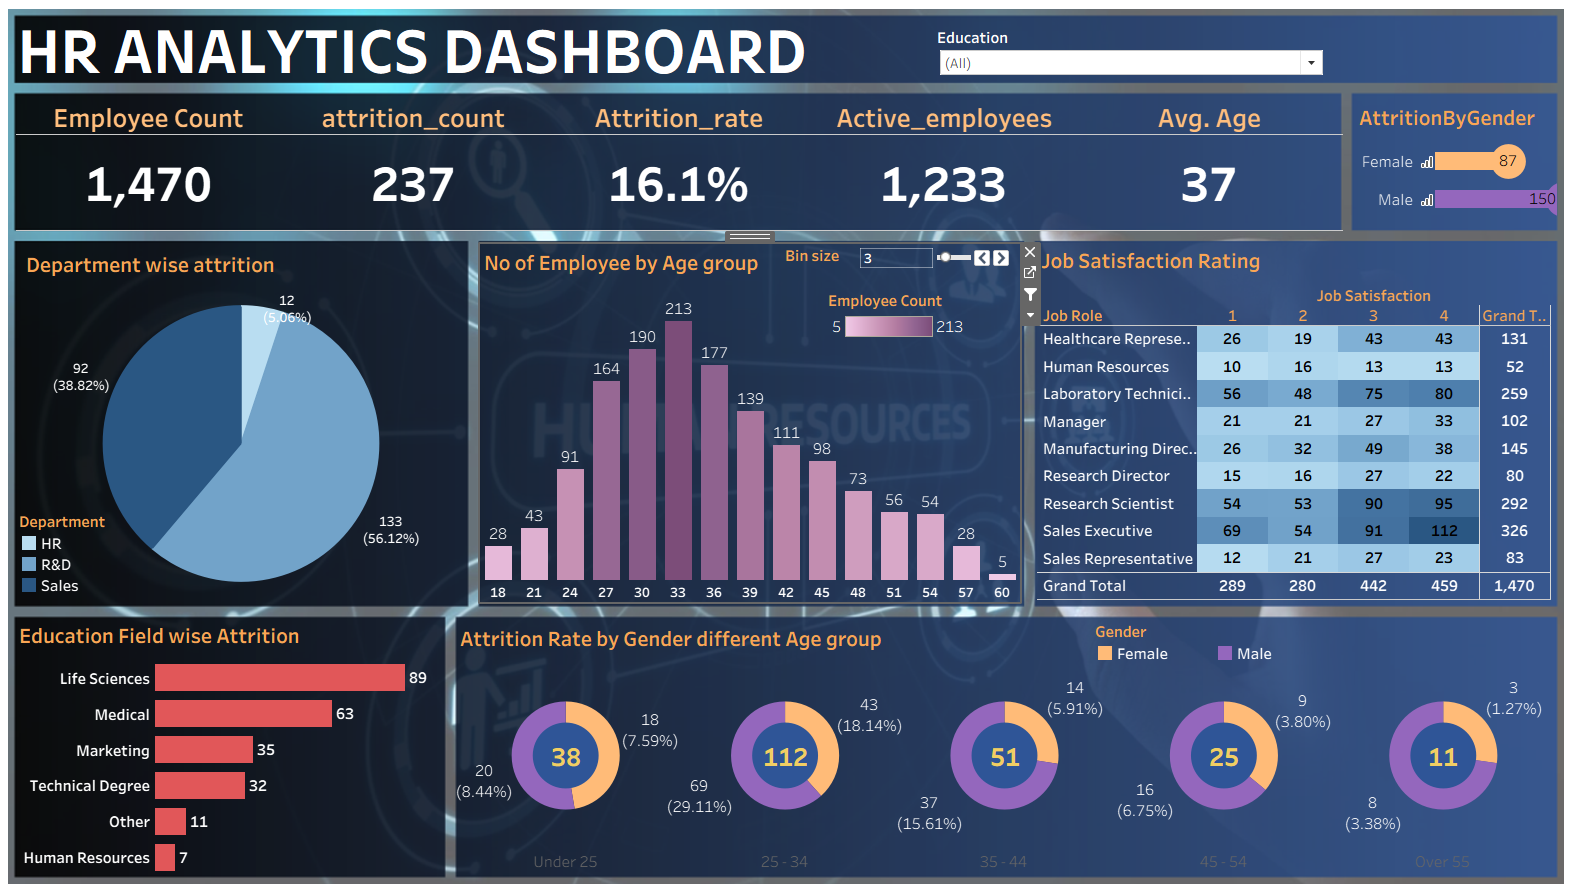

The page's visual inventory and layout, read from the dashboard file:
{"tool":"tableau","page":{"name":"HR ANALYTICS DASHBOARD","canvas":[1580,900],"ordinal":0},"visuals":[{"type":"image","param":"Image/HR background.pptx.png","box":[8,8,1564,884]},{"type":"text","box":[18,21,830,60]},{"type":"filter","title":"KPI","param":"[federated.0dyx7000e9c6fp18b4di31rew2zo].[none:Education:nk]","box":[941,30,389,50]},{"type":"worksheet","title":"KPI","mark":"Text","box":[20,97,1327,137]},{"type":"worksheet","title":"AttritionByGender","mark":"Automatic","rows":["Gender"],"cols":["Calculation_1550643996291072","Calculation_1550643996291072"],"box":[1359,102,202,119]},{"type":"worksheet","title":"Job Satisfaction Rating","mark":"Square","rows":["Job Role"],"cols":["Job Satisfaction"],"box":[1041,245,514,358]},{"type":"worksheet","title":"No of Employee by Age group","mark":"Automatic","rows":["Employee Count"],"cols":["Age (bin)"],"box":[484,247,540,358]},{"type":"parameter","param":"[Parameters].[Parameter 0351078969819136]","box":[789,248,227,33]},{"type":"worksheet","title":"Department wise attrition","mark":"Pie","box":[26,249,438,352]},{"type":"legend","title":"No of Employee by Age group","param":"[federated.0dyx7000e9c6fp18b4di31rew2zo].[sum:Employee Count:qk]","box":[832,293,140,51]},{"type":"legend","title":"Department wise attrition","param":"[federated.0dyx7000e9c6fp18b4di31rew2zo].[none:Department:nk]","box":[23,514,96,91]},{"type":"worksheet","title":"Education Field wise Attrition","mark":"Automatic","rows":["Education Field"],"cols":["Calculation_1550643996291072"],"box":[19,620,429,258]},{"type":"worksheet","title":"Attrition Rate by Gender different Age group ","mark":"Pie","rows":["Calculation_0351078989754374","Calculation_0351078989754374"],"cols":["CF_age band"],"box":[460,623,1097,253]},{"type":"legend","title":"Attrition Rate by Gender different Age group ","param":"[federated.0dyx7000e9c6fp18b4di31rew2zo].[none:Gender:nk]","box":[1099,624,459,43]}]}

Visuals, with their boxes in screenshot pixels (x1, y1, x2, y2), scaled from the page's 1580x900 canvas onto the 1572x885 screenshot:
image: pyautogui.locateOnScreen(8, 8, 1564, 877)
text: pyautogui.locateOnScreen(18, 21, 844, 80)
"KPI" filter: pyautogui.locateOnScreen(936, 30, 1323, 79)
"KPI" worksheet (Text marks): pyautogui.locateOnScreen(20, 95, 1340, 230)
"AttritionByGender" worksheet: pyautogui.locateOnScreen(1352, 100, 1553, 217)
"Job Satisfaction Rating" worksheet (Square marks): pyautogui.locateOnScreen(1036, 241, 1547, 593)
"No of Employee by Age group" worksheet: pyautogui.locateOnScreen(482, 243, 1019, 595)
parameter: pyautogui.locateOnScreen(785, 244, 1011, 276)
"Department wise attrition" worksheet (Pie marks): pyautogui.locateOnScreen(26, 245, 462, 591)
"No of Employee by Age group" legend: pyautogui.locateOnScreen(828, 288, 967, 338)
"Department wise attrition" legend: pyautogui.locateOnScreen(23, 505, 118, 595)
"Education Field wise Attrition" worksheet: pyautogui.locateOnScreen(19, 610, 446, 863)
"Attrition Rate by Gender different Age group " worksheet (Pie marks): pyautogui.locateOnScreen(458, 613, 1549, 861)
"Attrition Rate by Gender different Age group " legend: pyautogui.locateOnScreen(1093, 614, 1550, 656)
